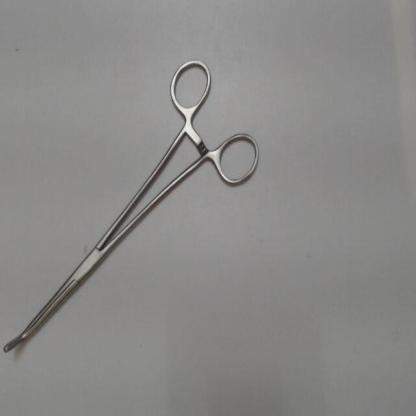Lahey Forceps: (1, 51, 268, 360)
